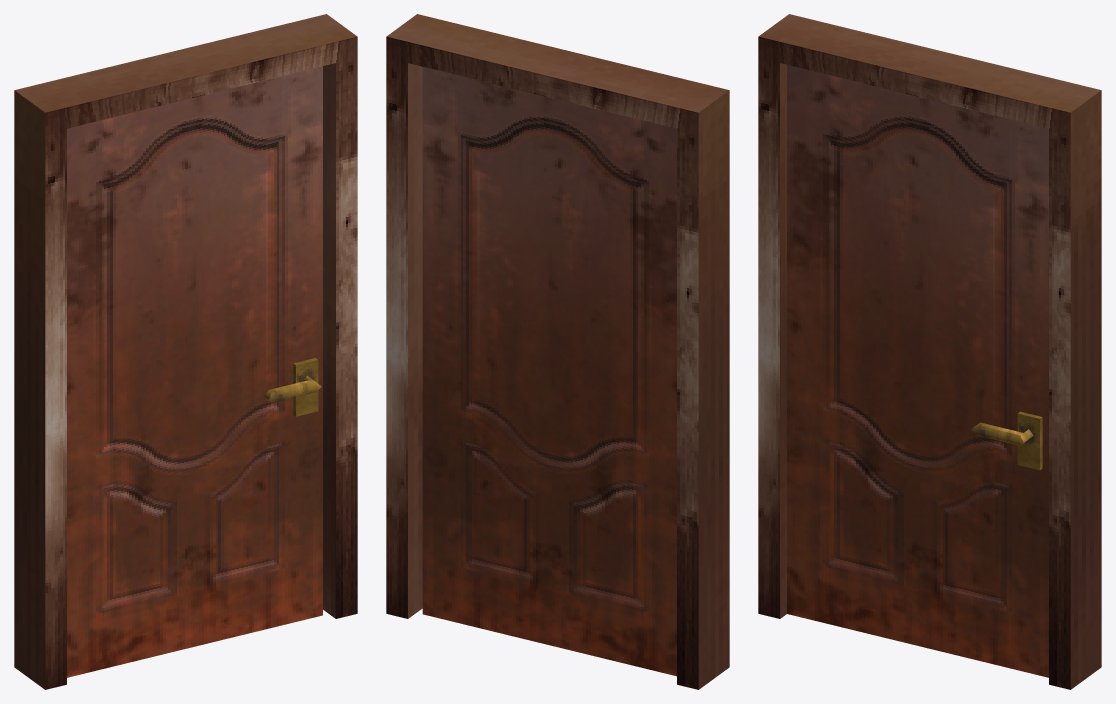
The model's file is door.glb.
3 renders of one model, left to right at view 1: azimuth 30°, elevation 25°; view 2: azimuth 150°, elevation 25°; view 3: azimuth 330°, elevation 25°, orthographic.
Parts seen in each view (by area): view 1: Door06.002, Doorframe, DoorHandle_Base, DoorHandle_Handle; view 2: Door06.002, Doorframe; view 3: Door06.002, Doorframe, DoorHandle_Base, DoorHandle_Handle.
Boxes of the visible parts, left/top/right/bottom form: Door06.002: left=67, top=66, right=322, bottom=677; Doorframe: left=14, top=14, right=357, bottom=689; DoorHandle_Base: left=293, top=358, right=318, bottom=416; DoorHandle_Handle: left=264, top=375, right=321, bottom=402; Door06.002: left=422, top=67, right=676, bottom=676; Doorframe: left=386, top=14, right=729, bottom=689; Door06.002: left=787, top=65, right=1048, bottom=677; Doorframe: left=758, top=14, right=1101, bottom=689; DoorHandle_Base: left=1017, top=411, right=1042, bottom=470; DoorHandle_Handle: left=971, top=422, right=1033, bottom=445.
Size of the model in its own units: 1.17 by 2.07 by 0.2368.
3 materials, 3 textured.
